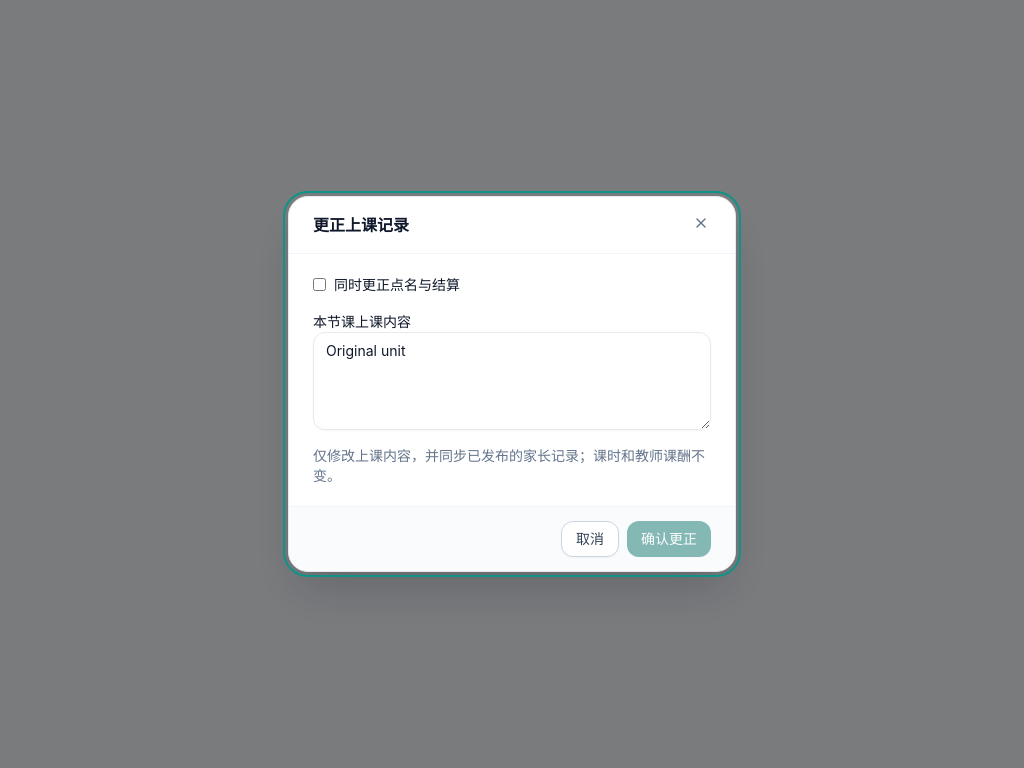
Scenario: admin attendance amendment previews impact and requires reason and reauthentication
Click the checkbox labelled "同时更正点名与结算": (320, 284) top-left (313, 278), bottom-right (326, 291)
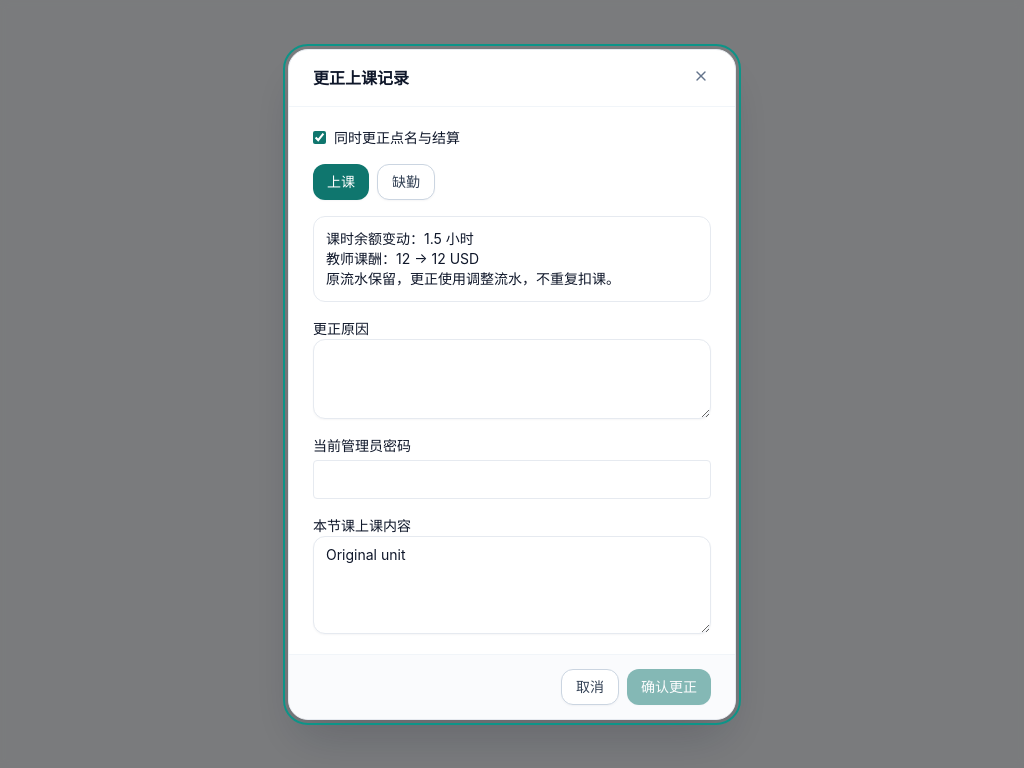
Expected: the button "确认更正" is disabled, top-left (627, 668), bottom-right (711, 704)
Expected: the text "课时余额变动：1.5 小时" is shown, top-left (326, 230), bottom-right (474, 246)
In the text box labelled "更正原因": (512, 378) top-left (313, 338), bottom-right (711, 418), type "Correct original attendance"
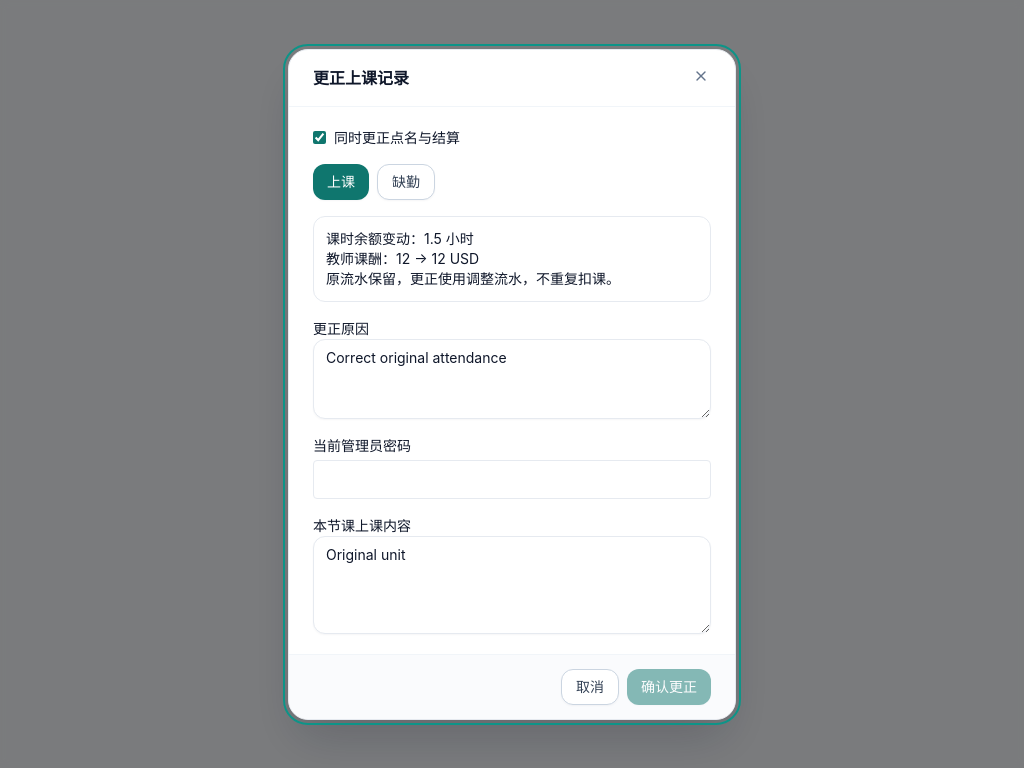
In the password field labelled "当前管理员密码": (512, 479) top-left (313, 460), bottom-right (711, 498), type "MOCK-password"
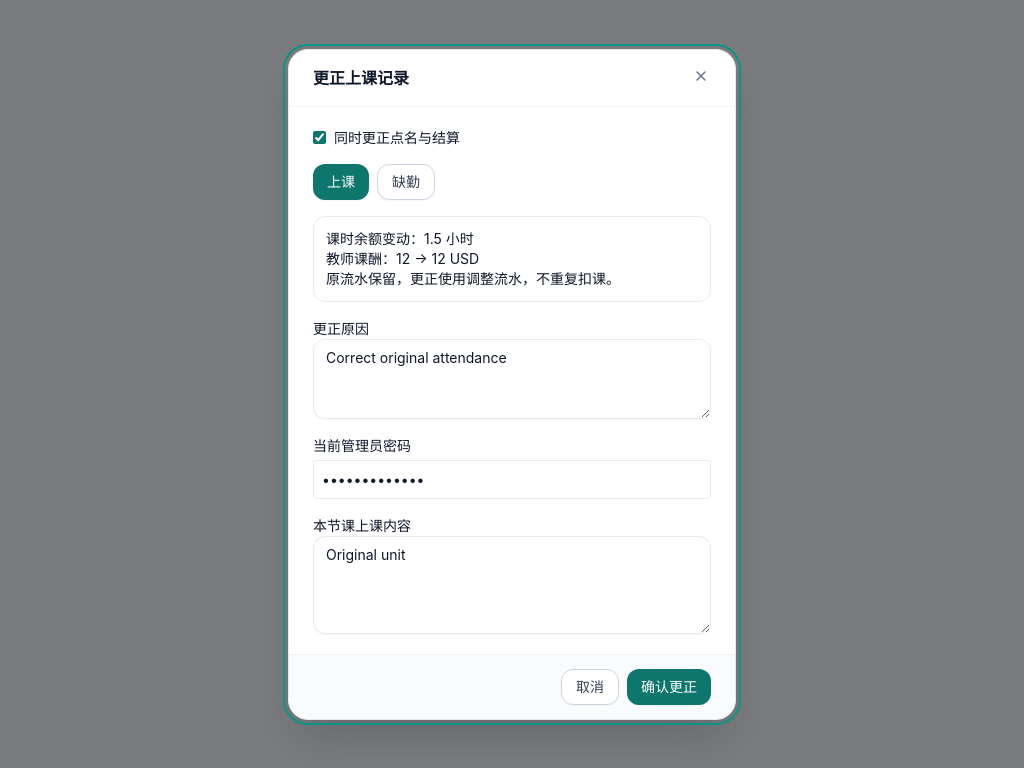
Expected: the button "确认更正" is enabled, top-left (627, 668), bottom-right (711, 704)
